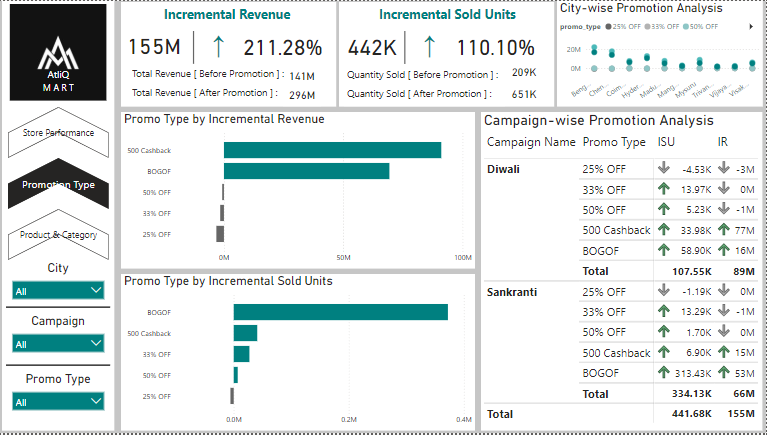

The page's visual inventory and layout, read from the dashboard file:
{"tool":"powerbi","page":{"name":"Promotion Type","canvas":[1280,720],"ordinal":1},"visuals":[{"type":"group","id":"g1","title":"Group 1","box":[7.2,0,187.2,715.7],"z":0},{"type":"shape","box":[7.2,0,187.2,715.7],"z":0,"group":"g1"},{"type":"shape","box":[204.5,1.4,358.6,174.2],"z":0,"group":"g4"},{"type":"shape","box":[569,1.4,358.6,174.2],"z":0,"group":"g3"},{"type":"image","box":[7.2,0,187.2,170.8],"z":1000,"group":"g1"},{"type":"group","id":"g2","title":"Group 4","box":[204.5,1.4,358.6,174.2],"z":1000},{"type":"card","fields":{"Values":["fact_events.IR %"]},"box":[750.9,41.3,157.8,64.9],"z":1000,"group":"g3"},{"type":"group","id":"g3","title":"Group 5","box":[569,1.4,358.6,174.2],"z":2000},{"type":"card","fields":{"Values":["fact_events.ISU Arrow"]},"box":[684,40,72,59],"z":2000,"group":"g3"},{"type":"textbox","box":[7.2,105.9,187.2,32.5],"z":2000,"group":"g1"},{"type":"card","fields":{"Values":["fact_events.Total_ISU"]},"box":[569.5,41.3,110.6,64.9],"z":3000,"group":"g3"},{"type":"textbox","box":[7.2,128.5,187.2,42.3],"z":3000,"group":"g1"},{"type":"barChart","title":"Promo Type by Incremental Revenue","fields":{"Category":["fact_events.promo_type"],"Y":["fact_events.Total_IR"]},"box":[204.5,184.3,590.4,260.6],"z":3000},{"type":"textbox","box":[577.5,105.9,275,36],"z":4000,"group":"g3"},{"type":"slicer","title":"City","fields":{"Values":["dim_stores.city"]},"box":[14,433.4,173.5,87.5],"z":4000,"group":"g1"},{"type":"barChart","title":"Promo Type by Incremental Sold Units","fields":{"Category":["fact_events.promo_type"],"Y":["fact_events.Total_ISU"]},"box":[204.5,455,590.4,260.6],"z":4000},{"type":"pivotTable","title":"Campaign-wise Promotion Analysis","fields":{"Rows":["dim_campaigns.campaign_name","fact_events.promo_type"],"Values":["fact_events.Total_ISU","fact_events.Total_IR"]},"box":[805,184.3,469.4,531.4],"z":4001},{"type":"scatterChart","title":"City-wise Promotion Analysis","fields":{"X":["dim_stores.city"],"Series":["fact_events.promo_type"],"Y":["fact_events.Total_IR"]},"box":[931.7,0,342.7,175.7],"z":4002},{"type":"textbox","box":[577.5,137.6,267.8,37.4],"z":5000,"group":"g3"},{"type":"slicer","title":"Promo Type","fields":{"Values":["fact_events.promo_type"]},"box":[14,618.3,173.5,87.5],"z":5000,"group":"g1"},{"type":"card","fields":{"Values":["fact_events.Total_IR"]},"box":[204.5,40.3,109.4,64.8],"z":6000,"group":"g4"},{"type":"card","fields":{"Values":["Sum(fact_events.quantity_sold(before_promo))"]},"box":[845.3,104.7,63.4,29.5],"z":6000,"group":"g3"},{"type":"slicer","title":"Campaign","fields":{"Values":["dim_campaigns.campaign_name"]},"box":[14,520.9,173.5,87.5],"z":6000,"group":"g1"},{"type":"card","fields":{"Values":["Sum(fact_events.Quantity Sold (AP))"]},"box":[845.3,140.1,63.4,31],"z":7000,"group":"g3"},{"type":"shape","box":[14,488.4,173.5,43.8],"z":7000,"group":"g1"},{"type":"textbox","box":[594.6,1.4,311.2,39.8],"z":8000,"group":"g3"},{"type":"pageNavigator","box":[16.8,176.4,168.1,256.9],"z":8000,"group":"g1"},{"type":"card","fields":{"Values":["fact_events.ISU %"]},"box":[393.1,41.7,162.7,64.8],"z":9000,"group":"g4"},{"type":"shape","box":[658,50.1,42.8,54.6],"z":9000,"group":"g3"},{"type":"shape","box":[14,585.8,173.5,43.8],"z":9000,"group":"g1"},{"type":"textbox","box":[217.1,104,274.3,35.4],"z":10000,"group":"g4"},{"type":"card","fields":{"Values":["Sum(fact_events.Total_Revenue (BP))"]},"box":[476.7,106.5,59,37.4],"z":11000,"group":"g4"},{"type":"textbox","box":[217.1,136.4,266.9,32.4],"z":12000,"group":"g4"},{"type":"group","id":"g4","title":"Group 2","box":[204.5,1.4,358.6,174.2],"z":13000,"group":"g2"},{"type":"card","fields":{"Values":["Sum(fact_events.Total_Revenue (AP))"]},"box":[475.2,138.2,63.4,37.4],"z":13000,"group":"g4"},{"type":"textbox","box":[216,1.4,329.8,40.3],"z":18000,"group":"g4"},{"type":"shape","box":[303.9,50.4,41.8,54.7],"z":19001,"group":"g4"},{"type":"card","fields":{"Values":["Min(fact_events.IR Arrow)"]},"box":[330.5,40,72,59],"z":19003,"group":"g2"}]}

Visuals, with their boxes in screenshot pixels (x1, y1, x2, y2), scaled from the page's 1280x720 canvas onto the 767x435 screenshot:
"Group 1" group: <box>4,0,116,432</box>
shape: <box>4,0,116,432</box>
shape: <box>123,1,337,106</box>
shape: <box>341,1,556,106</box>
image: <box>4,0,116,103</box>
"Group 4" group: <box>123,1,337,106</box>
card - fact_events.IR %: <box>450,25,545,64</box>
"Group 5" group: <box>341,1,556,106</box>
card - fact_events.ISU Arrow: <box>410,24,453,60</box>
textbox: <box>4,64,116,84</box>
card - fact_events.Total_ISU: <box>341,25,408,64</box>
textbox: <box>4,78,116,103</box>
"Promo Type by Incremental Revenue" barChart: <box>123,111,476,269</box>
textbox: <box>346,64,511,86</box>
"City" slicer: <box>8,262,112,315</box>
"Promo Type by Incremental Sold Units" barChart: <box>123,275,476,432</box>
"Campaign-wise Promotion Analysis" pivotTable: <box>482,111,764,432</box>
"City-wise Promotion Analysis" scatterChart: <box>558,0,764,106</box>
textbox: <box>346,83,507,106</box>
"Promo Type" slicer: <box>8,374,112,426</box>
card - fact_events.Total_IR: <box>123,24,188,63</box>
card - Sum(fact_events.quantity_sold(before_promo)): <box>507,63,545,81</box>
"Campaign" slicer: <box>8,315,112,368</box>
card - Sum(fact_events.Quantity Sold (AP)): <box>507,85,545,103</box>
shape: <box>8,295,112,322</box>
textbox: <box>356,1,543,25</box>
pageNavigator: <box>10,107,111,262</box>
card - fact_events.ISU %: <box>236,25,333,64</box>
shape: <box>394,30,420,63</box>
shape: <box>8,354,112,380</box>
textbox: <box>130,63,294,84</box>
card - Sum(fact_events.Total_Revenue (BP)): <box>286,64,321,87</box>
textbox: <box>130,82,290,102</box>
"Group 2" group: <box>123,1,337,106</box>
card - Sum(fact_events.Total_Revenue (AP)): <box>285,83,323,106</box>
textbox: <box>129,1,327,25</box>
shape: <box>182,30,207,63</box>
card - Min(fact_events.IR Arrow): <box>198,24,241,60</box>
